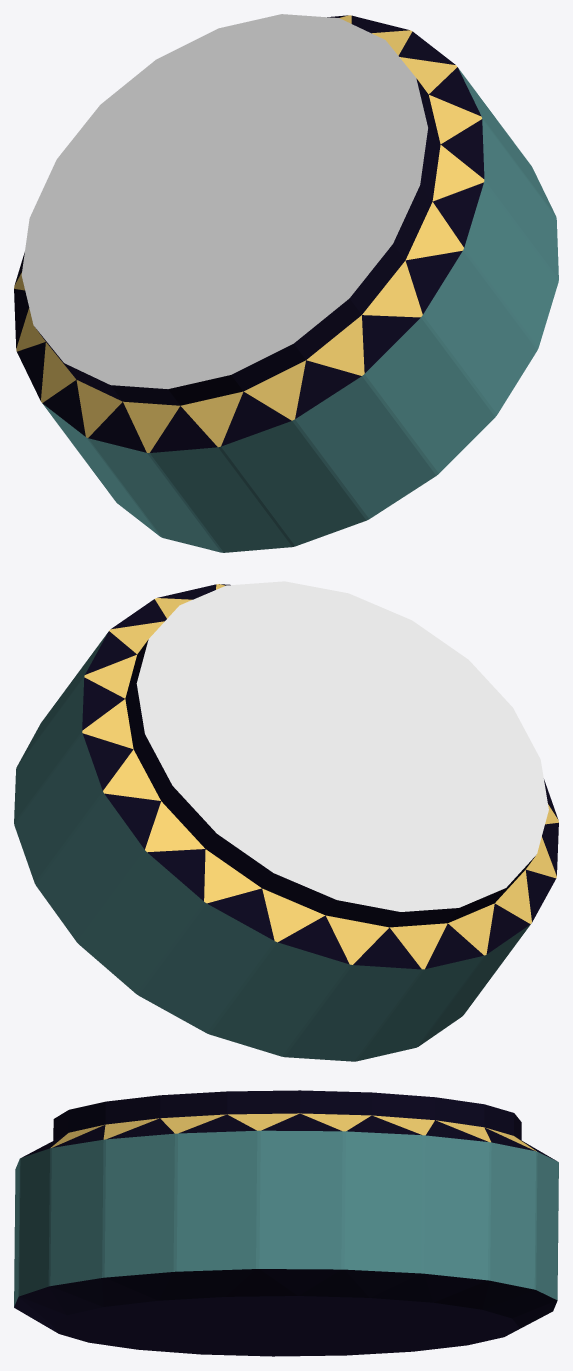
Rendered from rampa1.fbx.
3 renders of one model, top to bottom at view 1: azimuth 30°, elevation 25°; view 2: azimuth 150°, elevation 25°; view 3: azimuth 270°, elevation 25°, orthographic. The views are drawn at different scales.
Visible parts, largest first — view 1: Cylinder; view 2: Cylinder; view 3: Cylinder.
Boxes of the visible parts, x1,y1,x2,y2 form: Cylinder: (14,14,558,552); Cylinder: (14,581,558,1061); Cylinder: (14,1090,558,1356).
Bounding box in the file's own units: 47.43 × 39.75 × 53.71.
